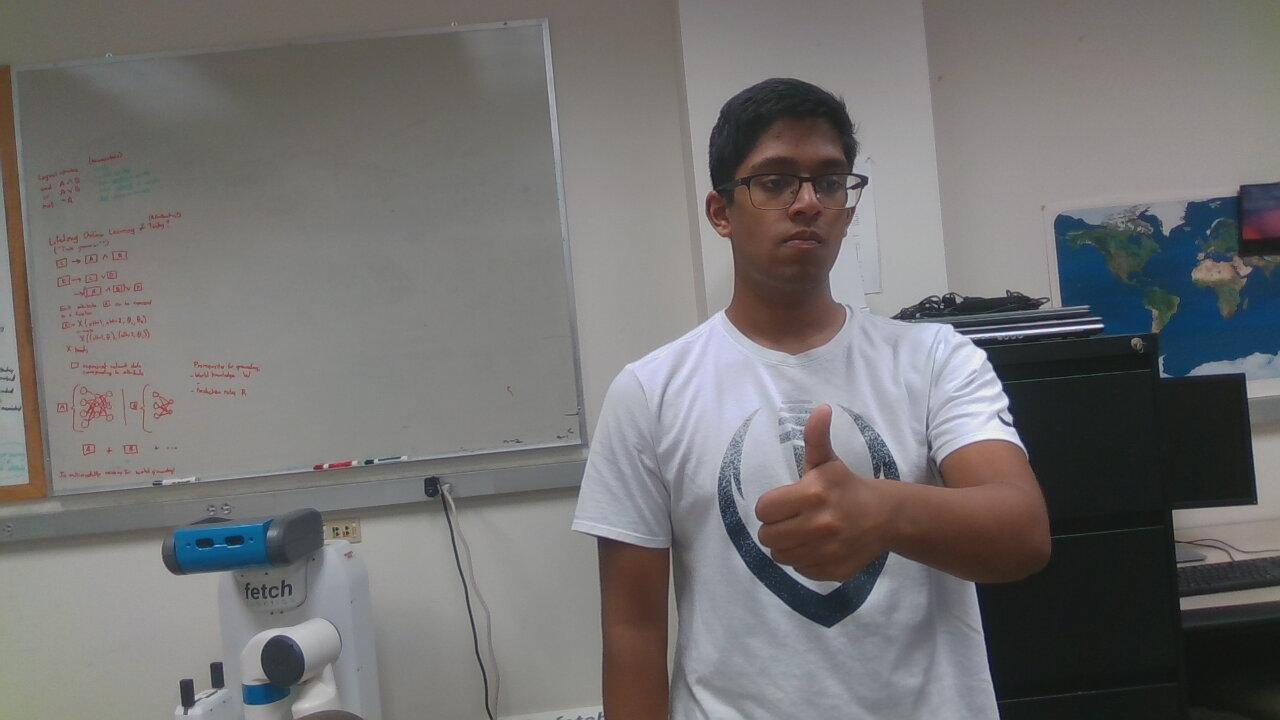hands: (724, 390, 926, 598)
